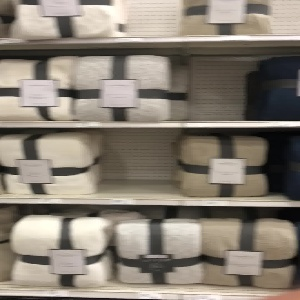void: (94, 128, 175, 199), (189, 41, 254, 120), (129, 1, 178, 39), (272, 1, 300, 35)
